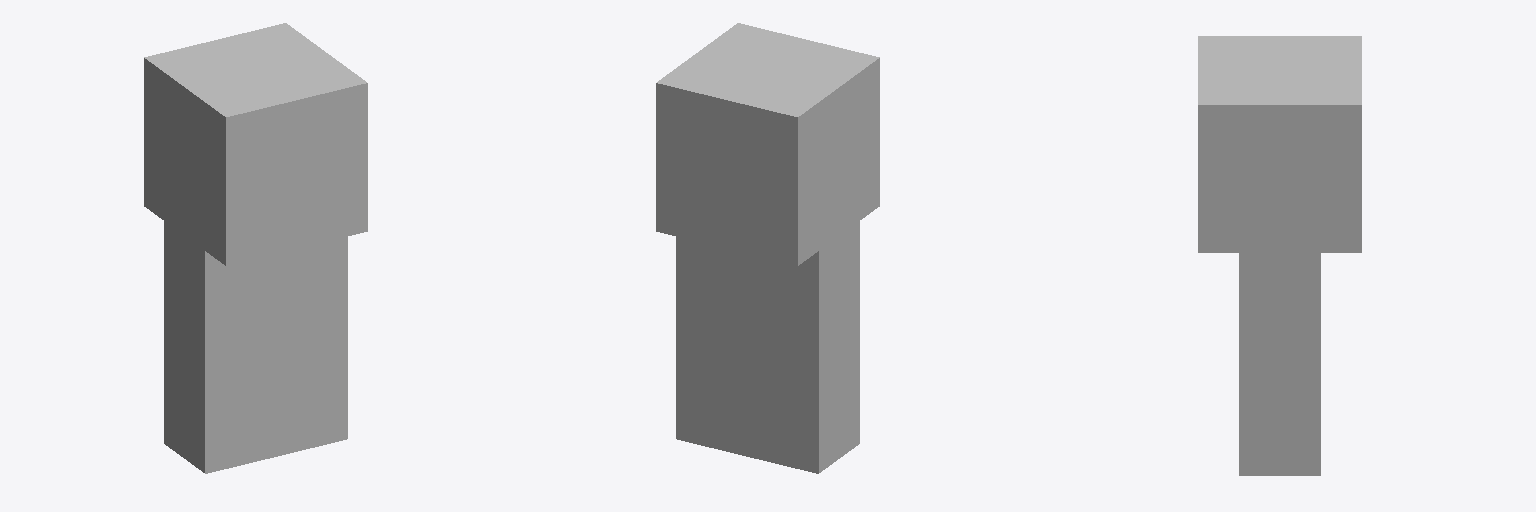
Rendered from human2.obj.
3 views of the same model, side by side, from view 1: azimuth 30°, elevation 25°; view 2: azimuth 150°, elevation 25°; view 3: azimuth 270°, elevation 25° (orthographic).
Visible parts, largest first — view 1: 큐브, Cube; view 2: 큐브, Cube; view 3: 큐브, Cube.
Boxes of the visible parts, x1=… form: 큐브: x1=144, y1=23, x2=367, y2=265; Cube: x1=164, y1=221, x2=347, y2=473; 큐브: x1=656, y1=23, x2=879, y2=265; Cube: x1=676, y1=221, x2=859, y2=473; 큐브: x1=1198, y1=36, x2=1361, y2=252; Cube: x1=1239, y1=253, x2=1320, y2=475.
Bounding box in the file's own units: 0.4 × 1 × 0.4.